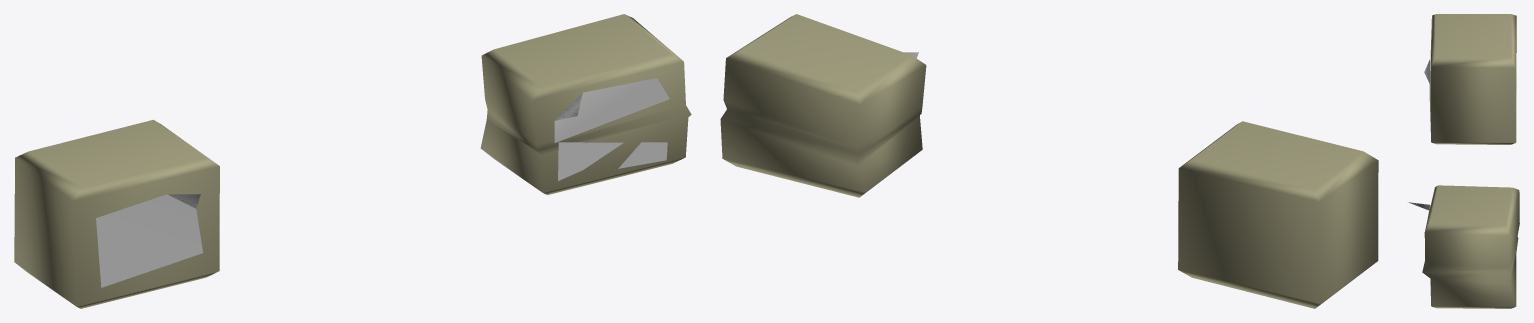
The model's file is cardboard boxes.fbx.
3 renders of one model, left to right at view 1: azimuth 30°, elevation 25°; view 2: azimuth 150°, elevation 25°; view 3: azimuth 270°, elevation 25°, orthographic. The views are drawn at different scales.
Parts seen in each view (by area): view 1: Cardboard Box, Cardboard Box Damaged; view 2: Cardboard Box, Cardboard Box Damaged; view 3: Cardboard Box, Cardboard Box Damaged.
Boxes of the visible parts, x1,y1,x2,y2 form: Cardboard Box: (14,119,219,308); Cardboard Box Damaged: (480,14,691,194); Cardboard Box: (1178,121,1378,308); Cardboard Box Damaged: (720,14,926,197); Cardboard Box: (1424,14,1516,144); Cardboard Box Damaged: (1408,185,1519,308).
Size of the model in its own units: 1.33 by 0.2509 by 0.2905.
